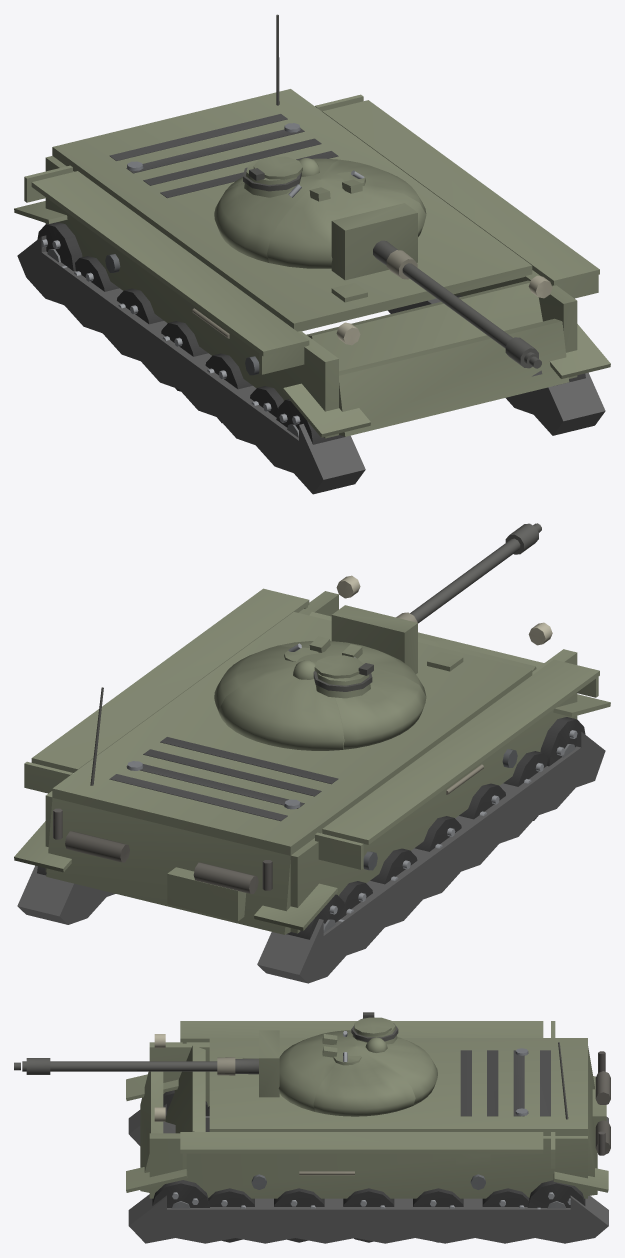
3 views of the same model, one above another, from view 1: azimuth 30°, elevation 25°; view 2: azimuth 150°, elevation 25°; view 3: azimuth 270°, elevation 25° (orthographic). The views are drawn at different scales.
Parts seen in each view (by area): view 1: hullTop, hullSide, tracks, lowerPlate, glacis, turretFront, turretSide, mantlet, barrel, turretRoof, wheel6, wheel5 (+5 smaller); view 2: hullTop, hullSide, tracks, hullRear, turretRear, turretSide, mantlet, turretRoof, barrel, turretFront, wheel5, glacis (+7 smaller); view 3: hullSide, hullTop, tracks, turretSide, barrel, turretFront, hullRear, glacis, turretRear, turretRoof, lowerPlate, mantlet (+7 smaller).
Part boxes in pixels (x1,y1,x2,y2): hullTop: (52,89,532,331); hullSide: (24,94,599,438); tracks: (14,201,610,494); lowerPlate: (339,318,569,436); glacis: (306,280,542,376); turretFront: (267,179,426,268); turretSide: (214,159,426,262); mantlet: (331,203,417,280); barrel: (373,240,541,368); turretRoof: (243,156,365,201); wheel6: (37,222,82,271); wheel5: (276,399,344,444); hullTop: (52,612,532,855); hullSide: (24,575,599,933); tracks: (14,694,610,983); hullRear: (46,687,292,934); turretRear: (219,662,343,750); turretSide: (214,645,426,749); mantlet: (331,605,417,673); turretRoof: (284,636,373,698); barrel: (396,523,541,623); turretFront: (278,641,425,695); wheel5: (540,717,585,766); glacis: (309,612,536,671); hullSide: (149,1021,587,1198); hullTop: (209,1038,587,1135); tracks: (126,1074,608,1243); turretSide: (313,1030,415,1116); barrel: (14,1057,258,1075); turretFront: (278,1034,354,1111); hullRear: (558,1042,610,1195); glacis: (163,1045,244,1133); turretRear: (355,1039,437,1105); turretRoof: (322,1012,398,1065); lowerPlate: (140,1071,163,1192); mantlet: (259,1030,279,1097).
Size of the model in its own units: 4.38 by 2.89 by 8.58.
